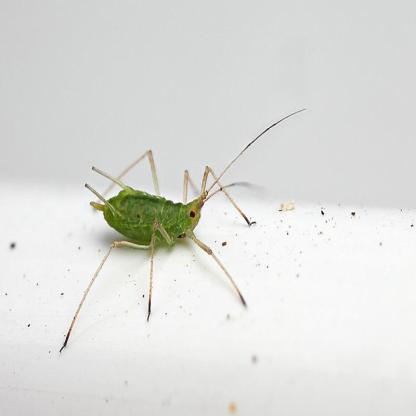aphid: (58, 102, 307, 344)
